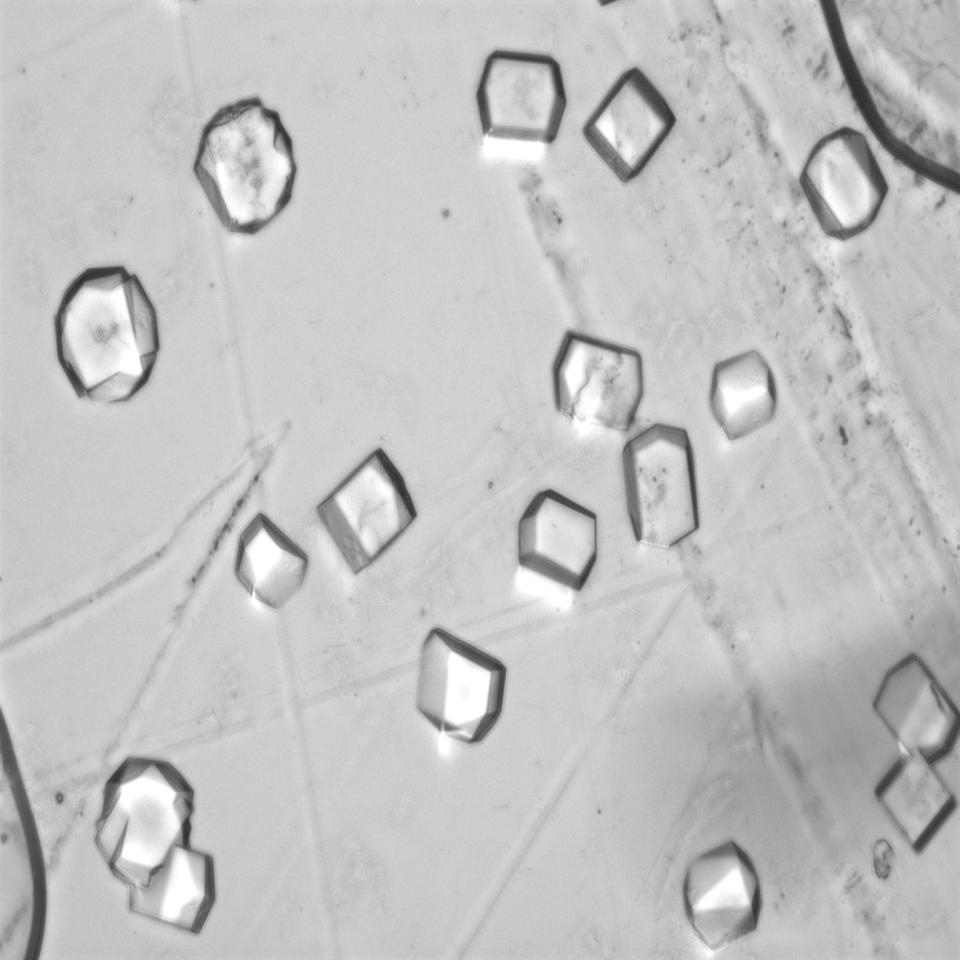crystal: (52, 266, 158, 403), (192, 99, 294, 234), (316, 448, 417, 577), (97, 759, 193, 886), (415, 621, 506, 743), (582, 66, 675, 184), (798, 129, 887, 242), (551, 328, 642, 434), (622, 422, 699, 547), (872, 656, 959, 765), (516, 489, 598, 595), (476, 50, 564, 146), (128, 841, 217, 934), (688, 839, 764, 947), (874, 751, 952, 854), (232, 512, 308, 612), (709, 350, 778, 440)
